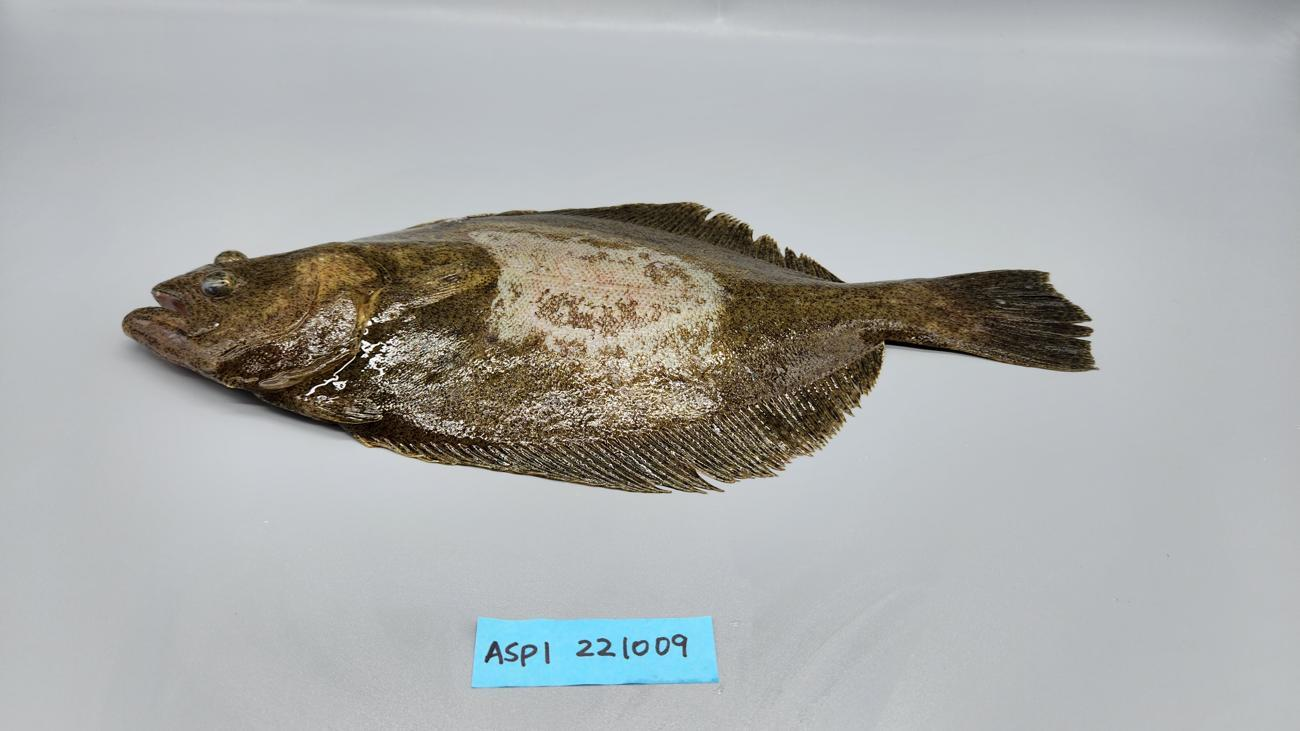SPOUY: (112, 193, 1108, 511)
